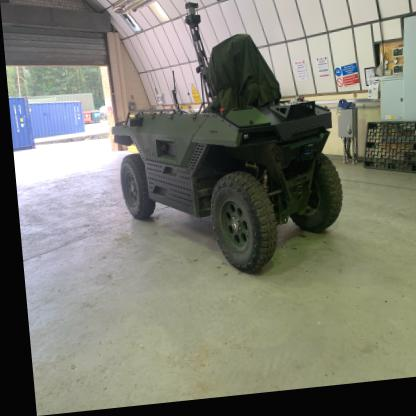UGV: (108, 97, 343, 290)
